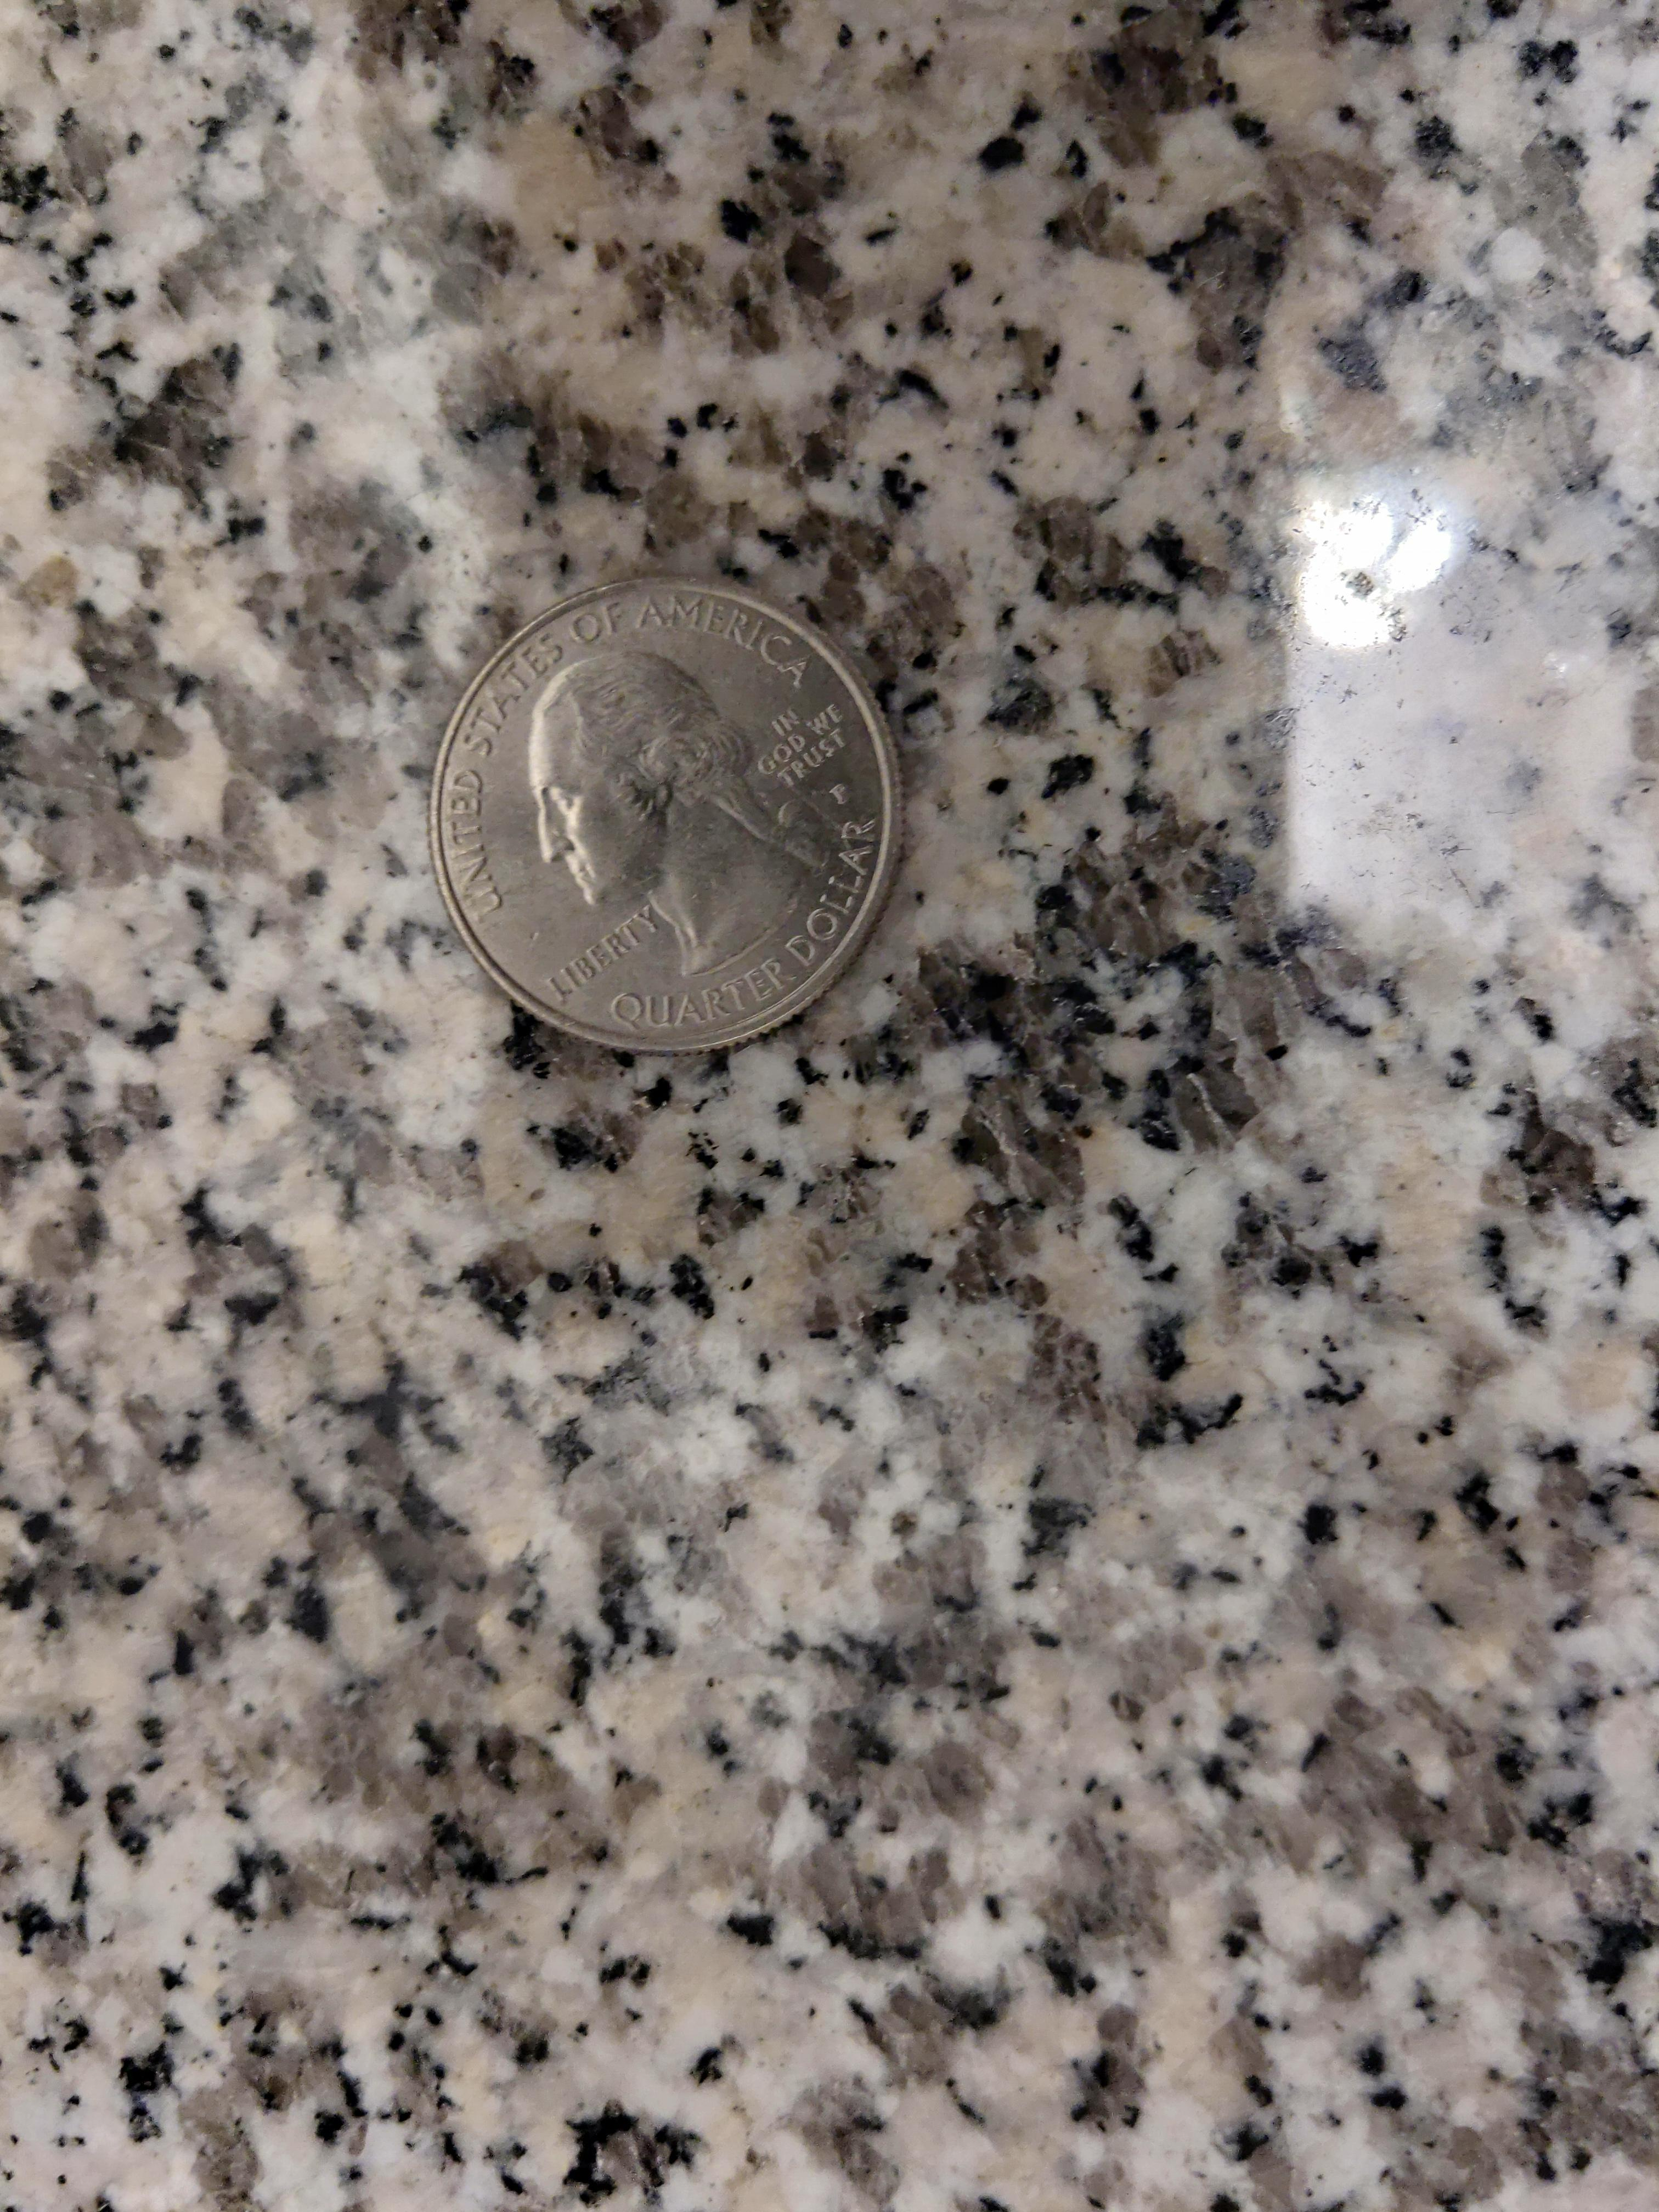Quarter: (425, 573, 904, 1055)
